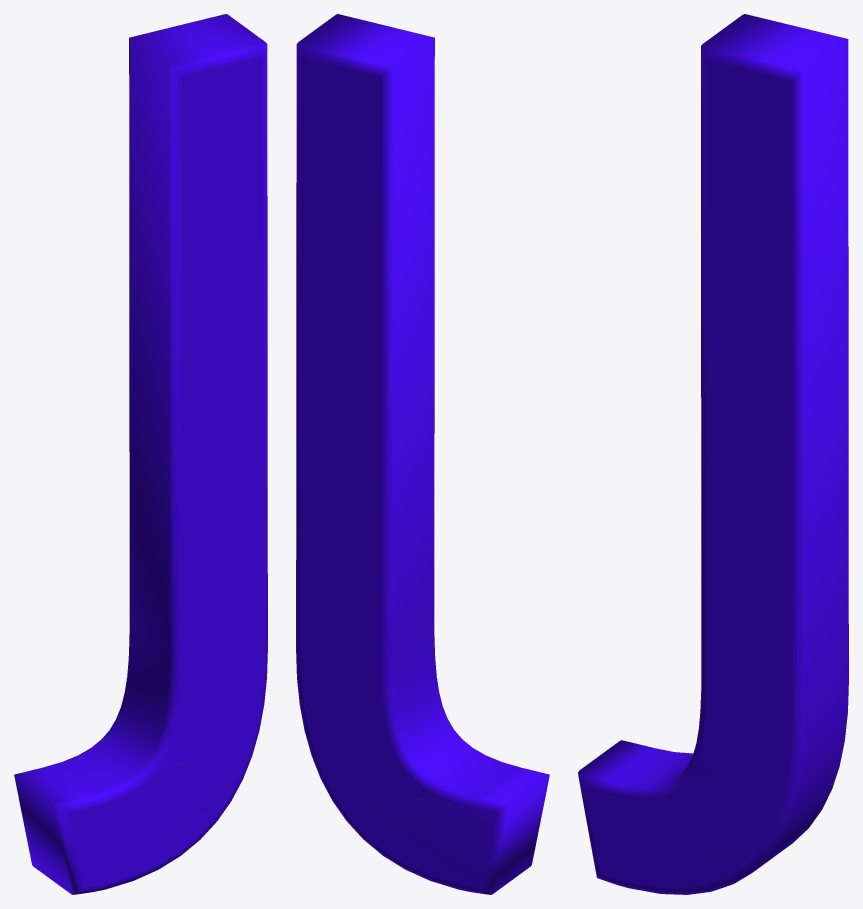
3 views of the same model, side by side, from view 1: azimuth 30°, elevation 25°; view 2: azimuth 150°, elevation 25°; view 3: azimuth 330°, elevation 25° (orthographic). The views are drawn at different scales.
Parts seen in each view (by area): view 1: JJ; view 2: JJ; view 3: JJ.
Boxes of the visible parts, box(x1,y1,x2,y2) form: JJ: box(14, 14, 267, 894); JJ: box(296, 14, 549, 894); JJ: box(578, 14, 848, 894).
Bounding box in the file's own units: 0.1384 × 0.5 × 0.0537.
